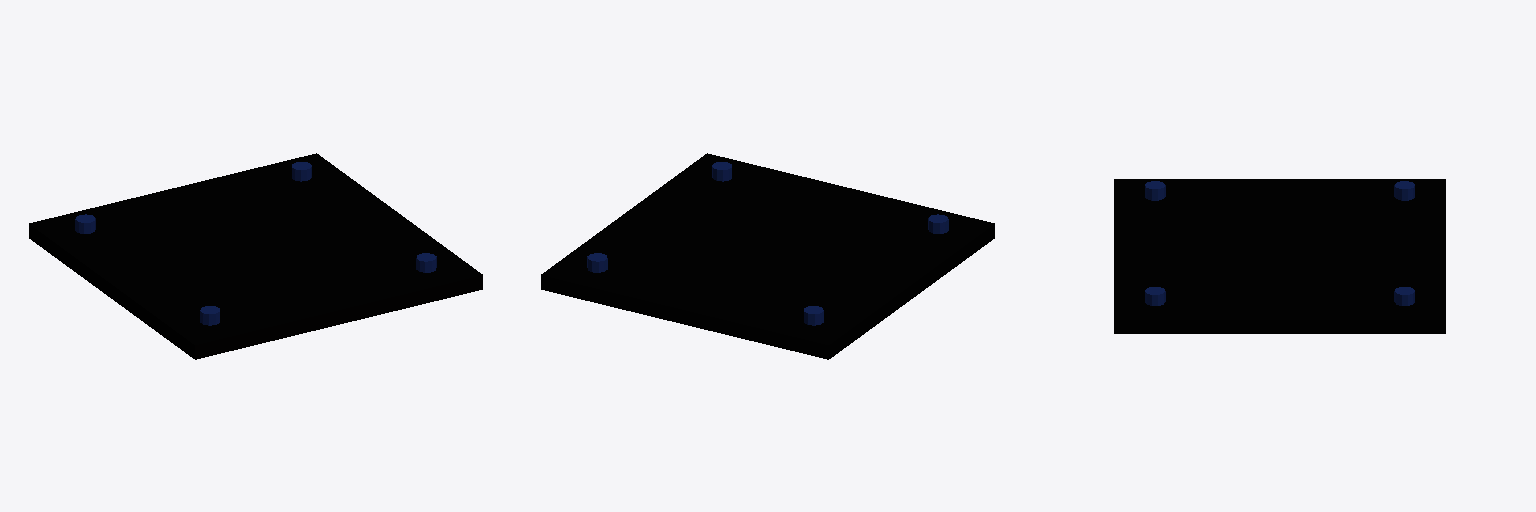
The model's file is generator1.obj.
3 views of the same model, side by side, from view 1: azimuth 30°, elevation 25°; view 2: azimuth 150°, elevation 25°; view 3: azimuth 270°, elevation 25° (orthographic).
Parts seen in each view (by area): view 1: Cube.002; view 2: Cube.002; view 3: Cube.002.
Boxes of the visible parts, <box> form: Cube.002: <box>29,153,482,359</box>; Cube.002: <box>541,153,994,359</box>; Cube.002: <box>1114,179,1445,333</box>.
Bounding box in the file's own units: 1.6 × 0.1907 × 1.6.